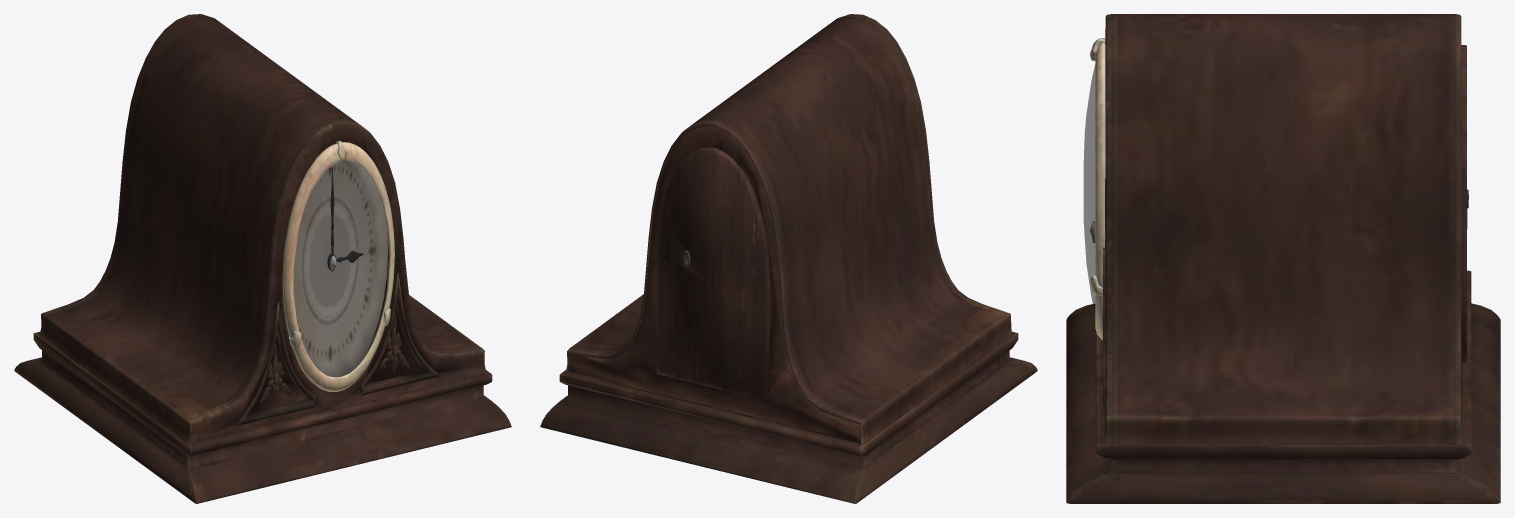
The model's file is ph-mantel-clock-01.glb.
3 renders of one model, left to right at view 1: azimuth 30°, elevation 25°; view 2: azimuth 150°, elevation 25°; view 3: azimuth 270°, elevation 25°, orthographic. The views are drawn at different scales.
Parts seen in each view (by area): view 1: mantel_clock_01, mantel_clock_01_glass; view 2: mantel_clock_01; view 3: mantel_clock_01, mantel_clock_01_glass.
Part boxes in pixels (<box>): mantel_clock_01: <box>14,14,511,503</box>; mantel_clock_01_glass: <box>294,161,389,377</box>; mantel_clock_01: <box>540,14,1037,503</box>; mantel_clock_01: <box>1066,14,1500,503</box>; mantel_clock_01_glass: <box>1083,65,1095,312</box>.
Size of the model in its own units: 0.9984 by 0.9997 by 0.999.
2 materials, 2 textured.
